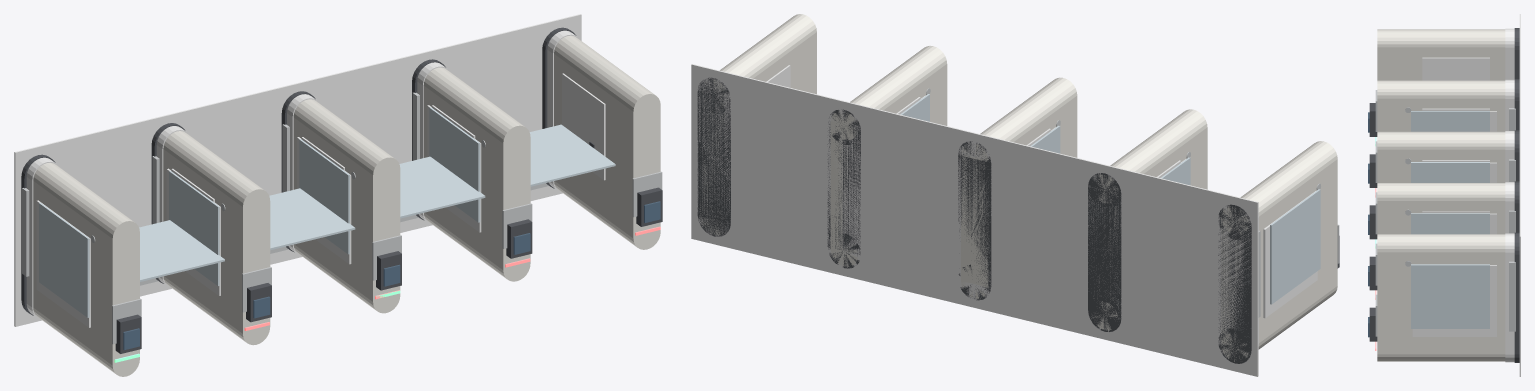
File: Cửa sinh trắc học 4 cửa.glb
3 views of the same model, side by side, from view 1: azimuth 30°, elevation 25°; view 2: azimuth 150°, elevation 25°; view 3: azimuth 270°, elevation 25° (orthographic). The views are drawn at different scales.
Visible parts, largest first — view 1: world; view 2: world; view 3: world.
Part boxes in pixels (x1,y1,x2,y2): world: [14, 14, 662, 376]; world: [691, 14, 1339, 376]; world: [1368, 14, 1520, 376].
Bounding box in the file's own units: 4.49 × 1.32 × 1.3.
1 material, 1 textured.
